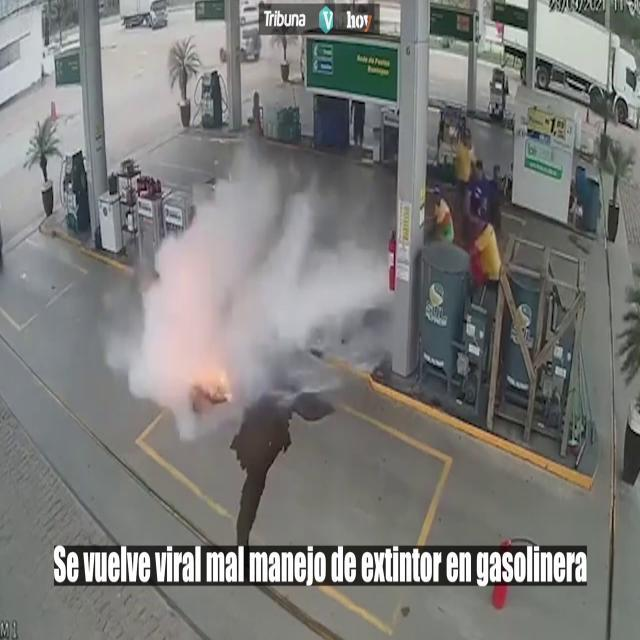Smoke: (128, 129, 386, 423)
